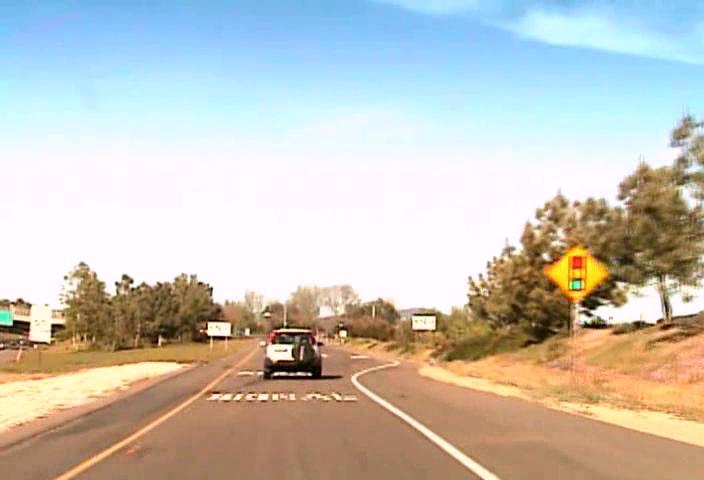signalAhead: (544, 245, 607, 302)
